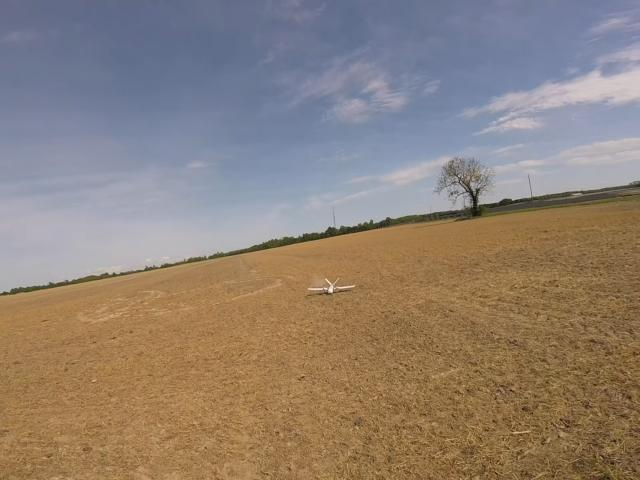plane: (307, 277, 355, 300)
